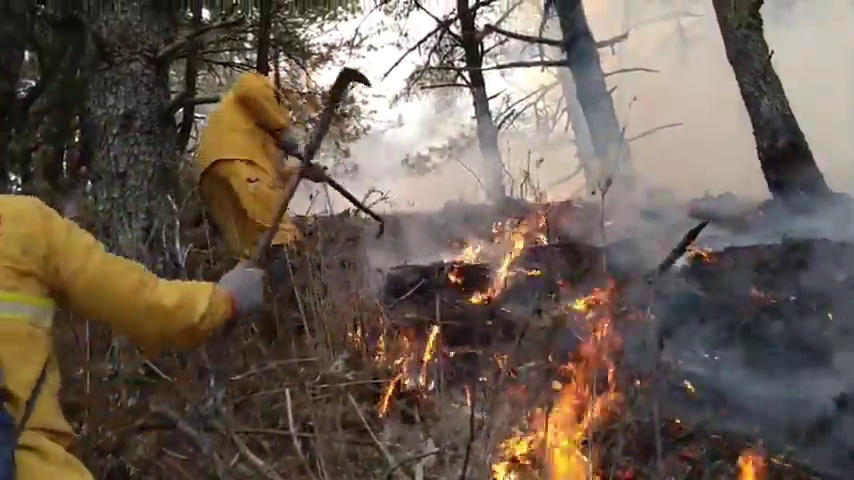fire: (515, 397, 592, 480), (499, 235, 523, 275), (426, 329, 440, 363), (460, 243, 482, 264), (738, 454, 755, 480), (576, 301, 589, 311)
